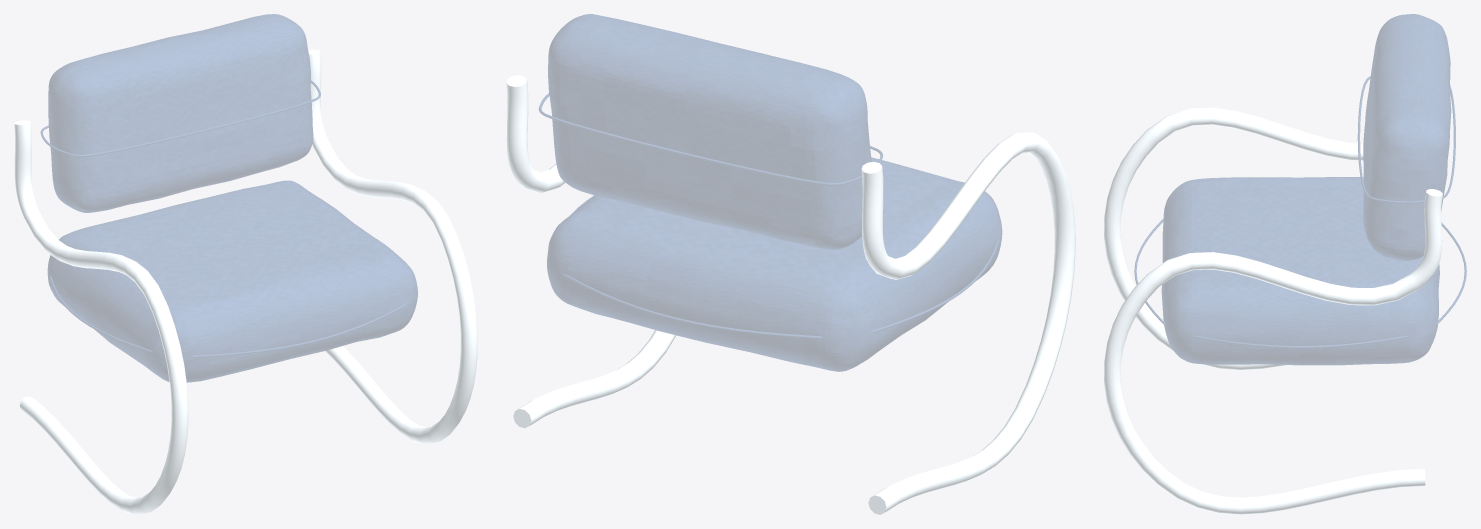
The model's file is ref04_13.glb.
3 views of the same model, side by side, from view 1: azimuth 30°, elevation 25°; view 2: azimuth 150°, elevation 25°; view 3: azimuth 270°, elevation 25° (orthographic). The views are drawn at different scales.
Parts seen in each view (by area): view 1: ref04_13; view 2: ref04_13; view 3: ref04_13.
Boxes of the visible parts, x1,y1,x2,y2 form: ref04_13: (14,14,477,514); ref04_13: (506,14,1075,514); ref04_13: (1104,14,1466,514).
Bounding box in the file's own units: 0.7818 × 0.902 × 0.7853.
2 materials, 1 textured.
